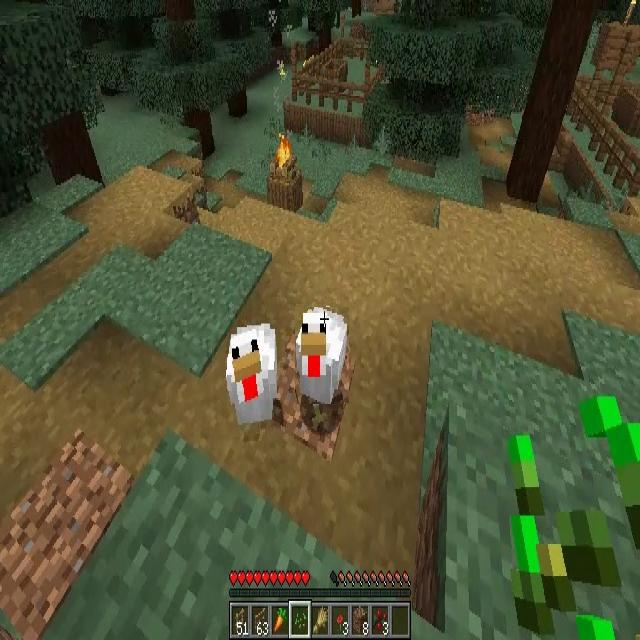duck: (226, 324, 278, 425), (295, 307, 349, 404)
